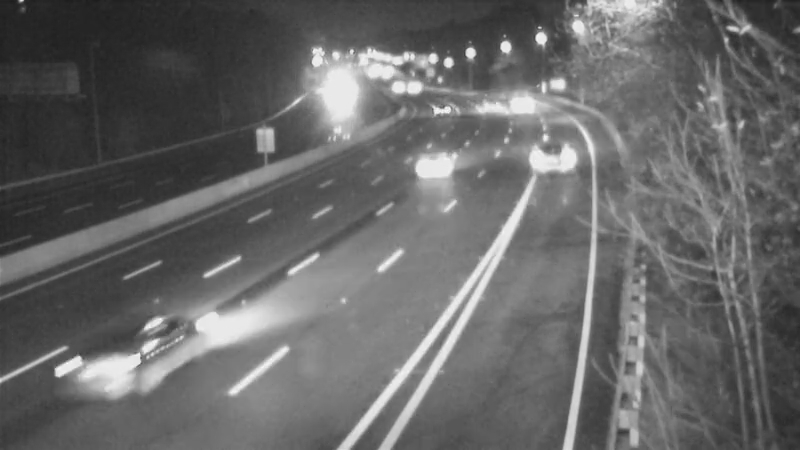vehicle: (42, 316, 152, 426), (513, 117, 593, 197), (385, 121, 465, 201), (461, 72, 511, 122), (497, 77, 547, 127), (418, 83, 468, 133)
